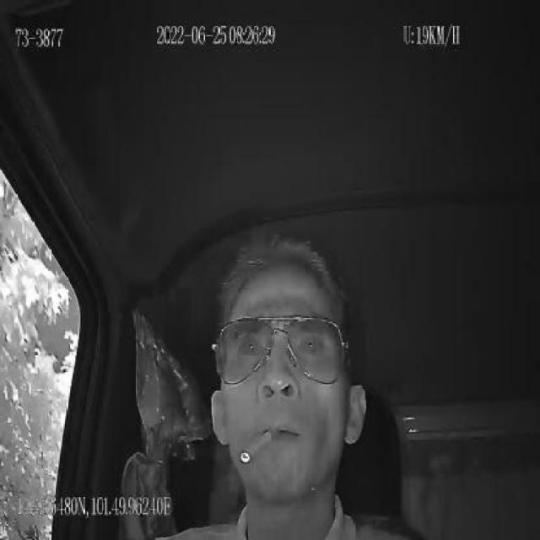smoking: (238, 426, 280, 466)
